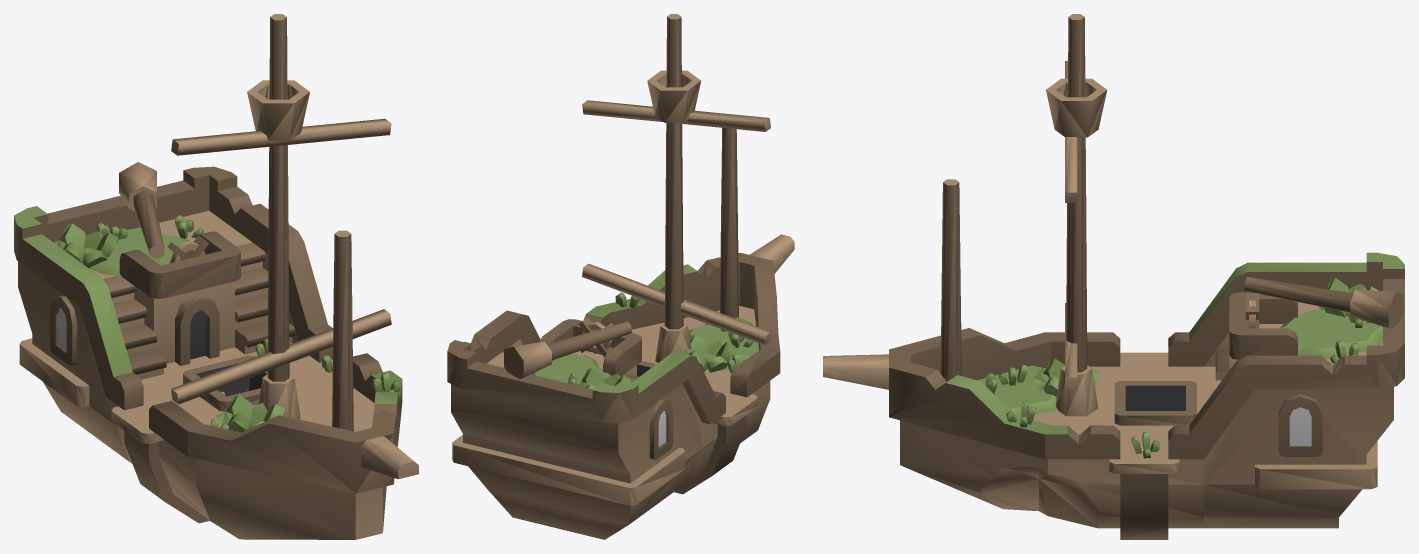
File: K_Shipwreck.glb
3 views of the same model, side by side, from view 1: azimuth 30°, elevation 25°; view 2: azimuth 150°, elevation 25°; view 3: azimuth 270°, elevation 25° (orthographic). The views are drawn at different scales.
Parts seen in each view (by area): view 1: K_Shipwreck; view 2: K_Shipwreck; view 3: K_Shipwreck.
Boxes of the visible parts, bbox=[...] form: K_Shipwreck: bbox=[14, 14, 418, 539]; K_Shipwreck: bbox=[447, 14, 794, 539]; K_Shipwreck: bbox=[823, 14, 1404, 539].
Size of the model in its own units: 7.68 by 15.94 by 16.96.
